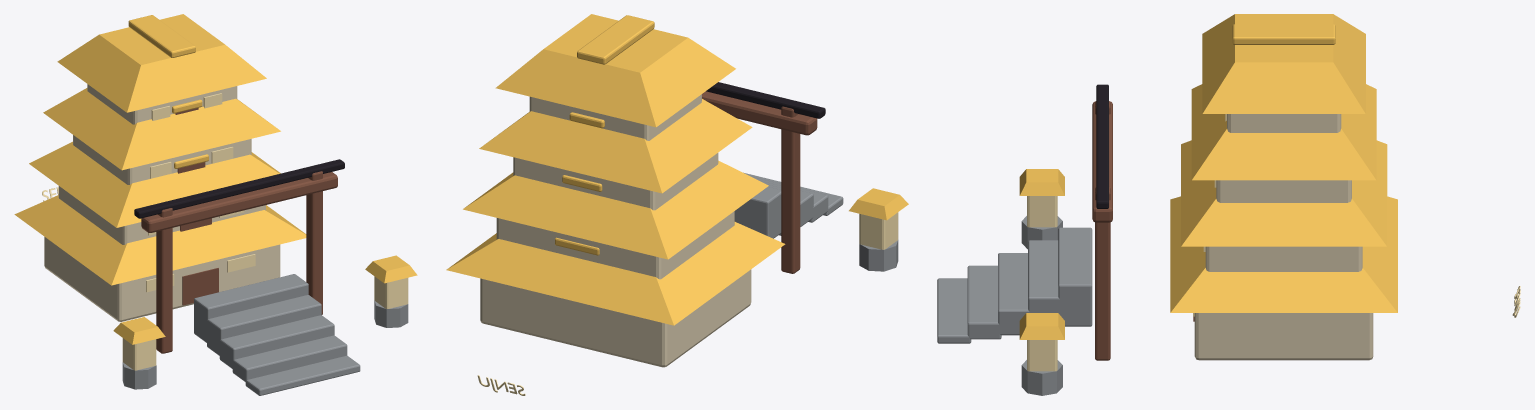
Rendered from 03_senju.glb.
3 renders of one model, left to right at view 1: azimuth 30°, elevation 25°; view 2: azimuth 150°, elevation 25°; view 3: azimuth 270°, elevation 25°, orthographic. The views are drawn at different scales.
Visible parts, largest first — view 1: tier_0_body.001; view 2: tier_0_body.001; view 3: tier_0_body.001.
Boxes of the visible parts, bbox=[...] form: tier_0_body.001: bbox=[14, 14, 417, 395]; tier_0_body.001: bbox=[446, 14, 908, 367]; tier_0_body.001: bbox=[937, 14, 1397, 395].
Bounding box in the file's own units: 7.86 × 6.4 × 11.88.
